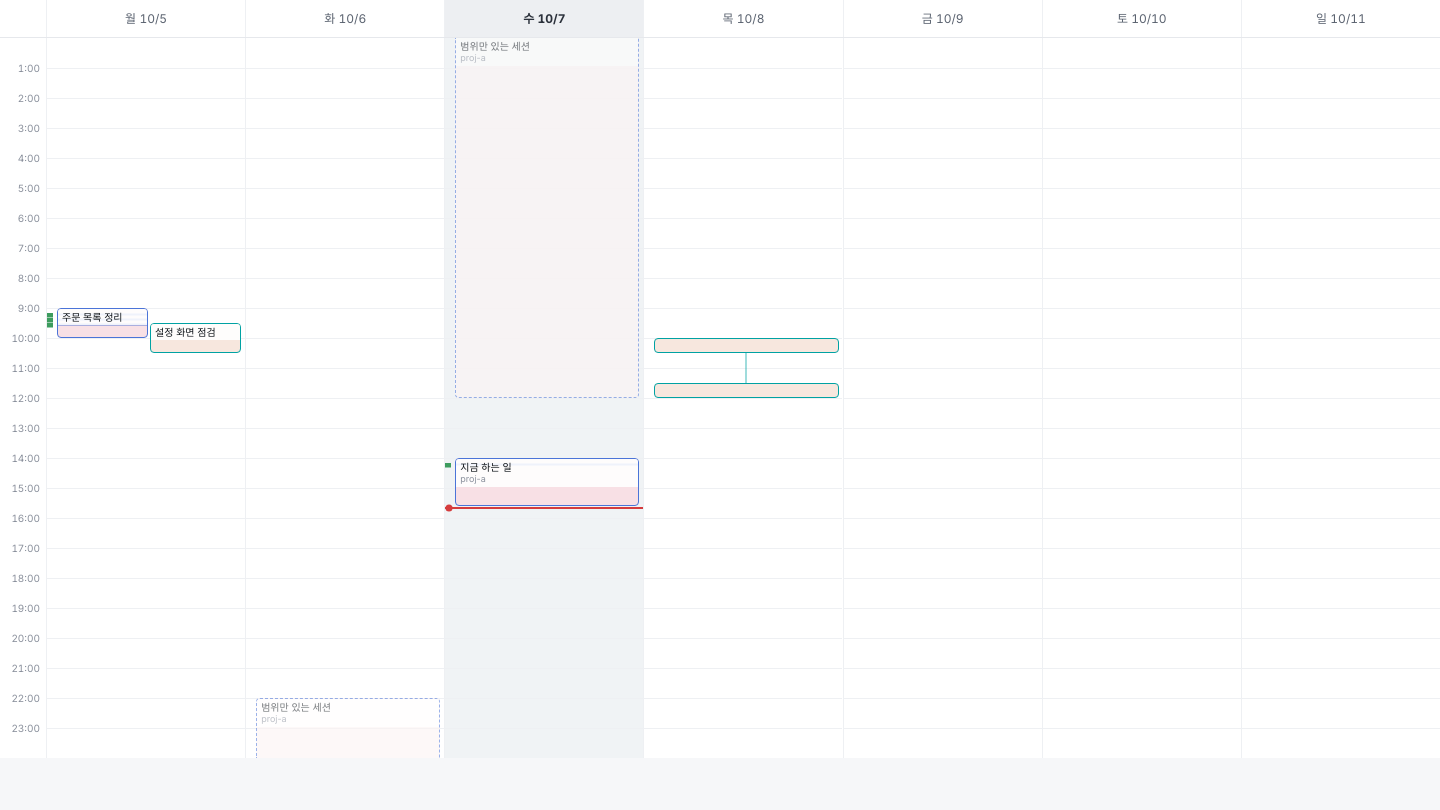
호버 (C14, C16) › 띠 위(입력선에서 먼 곳): 제목, 시간, 요청 수, 비용
This screenshot has width=1440, height=810.
Hover over the button "설정 화면 점검" at (196, 338), box [150,323,241,353]
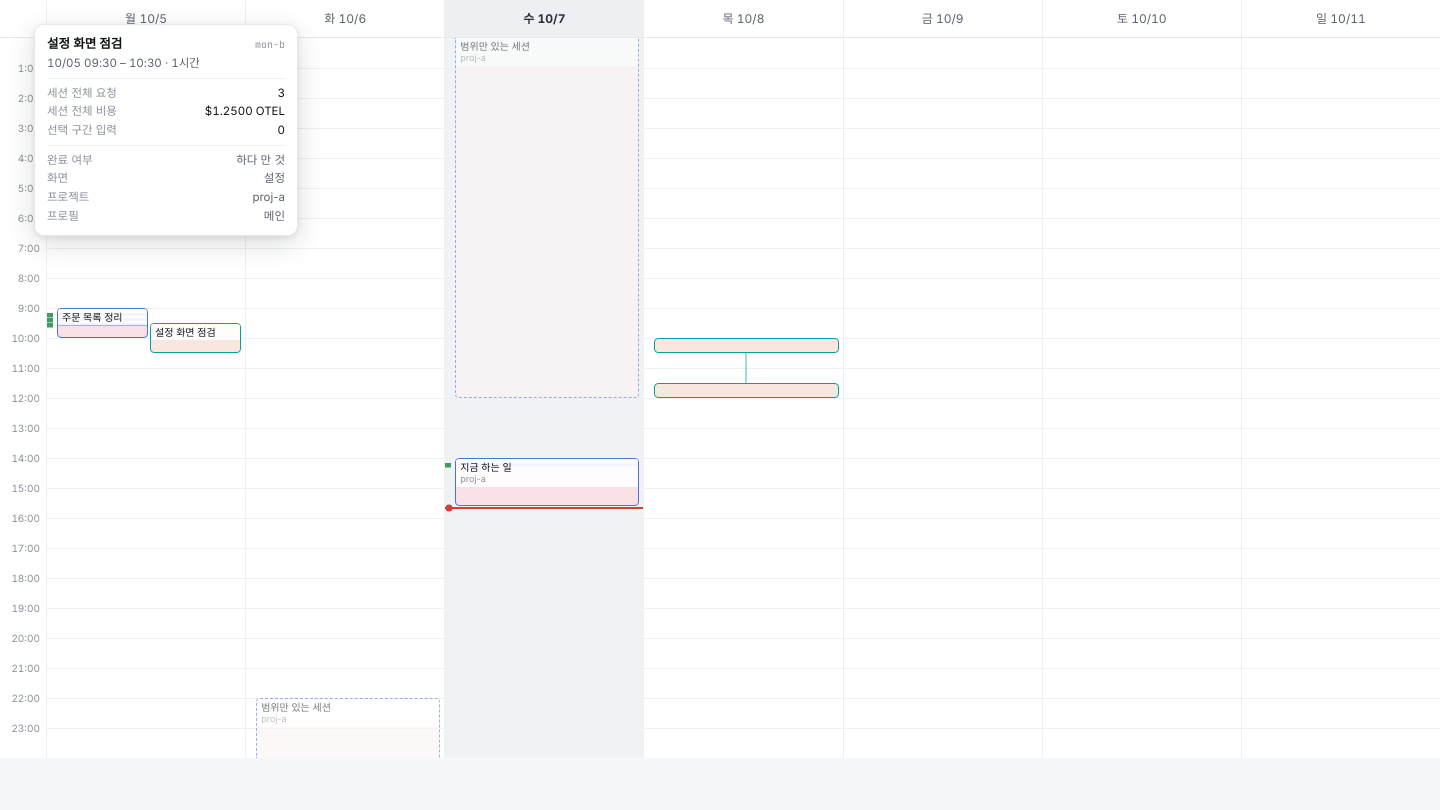
Expected: the tooltip shows "설정 화면 점검", [47,36,122,51]
Expected: the tooltip shows "10/05 09:30 – 10:30 · 1시간", [47,56,200,70]
Expected: the tooltip shows "$1.2500 OTEL", [205,104,285,118]
